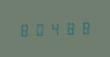eight: (63, 19, 77, 36), (18, 21, 32, 37), (78, 19, 92, 35)
four: (48, 20, 62, 36)
zero: (33, 20, 47, 37)
